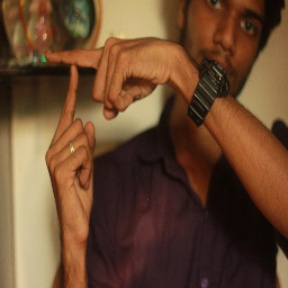T: (34, 33, 113, 152)
